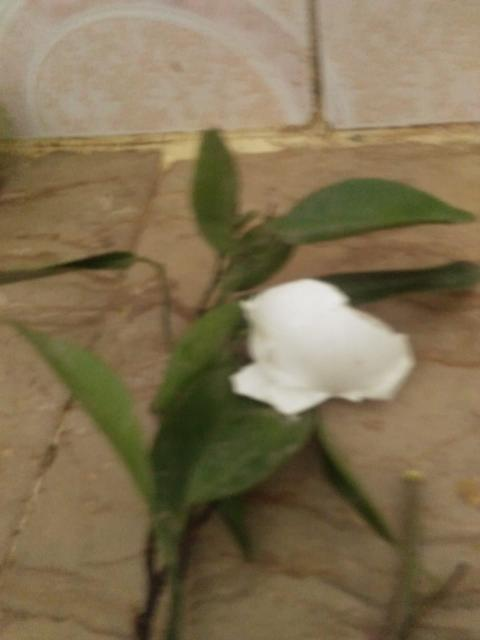Roto: (228, 276, 416, 416)
